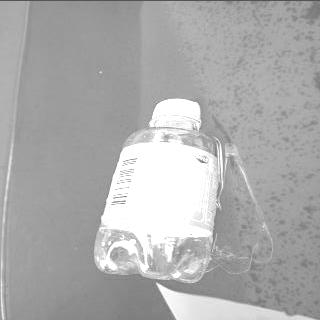bottle: (90, 97, 224, 284)
